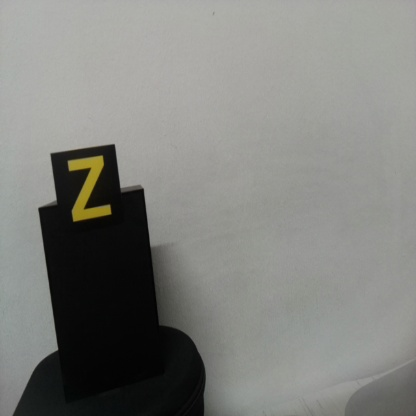id_15: (51, 153, 120, 227)
